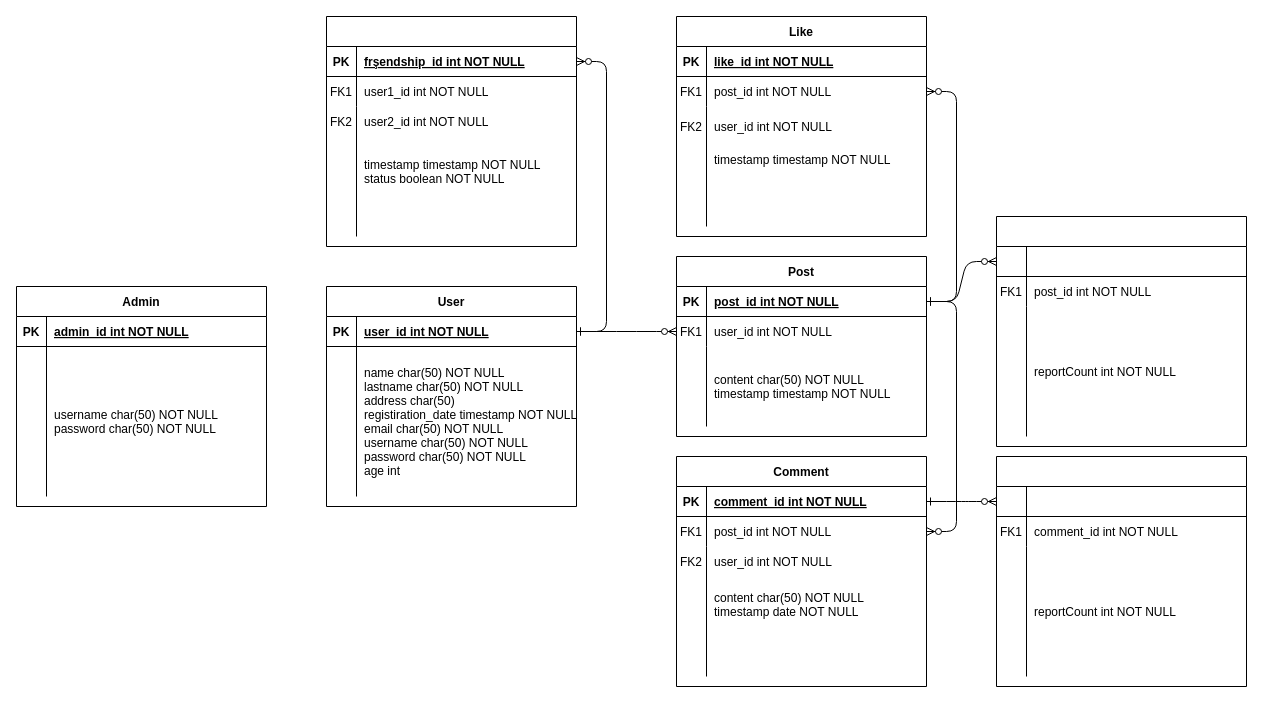
Some shapes in this 1263 by 703 pixel diagram are drawn without their labels. The box of each missing label's shape, as (x1, y1, x2, y2) in pixels:
CommentReport: (996, 456, 1246, 686)
Firends: (326, 16, 576, 246)
PostReport: (996, 216, 1246, 446)
